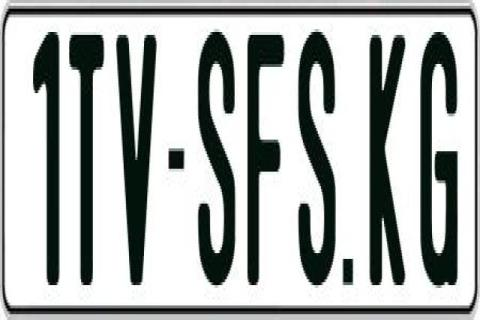0: (30, 27, 59, 297)
F: (244, 26, 282, 291)
G: (419, 29, 457, 285)
K: (370, 29, 406, 297)
S: (296, 29, 338, 291), (197, 32, 234, 285)
T: (69, 35, 106, 285)
V: (114, 35, 156, 288)
